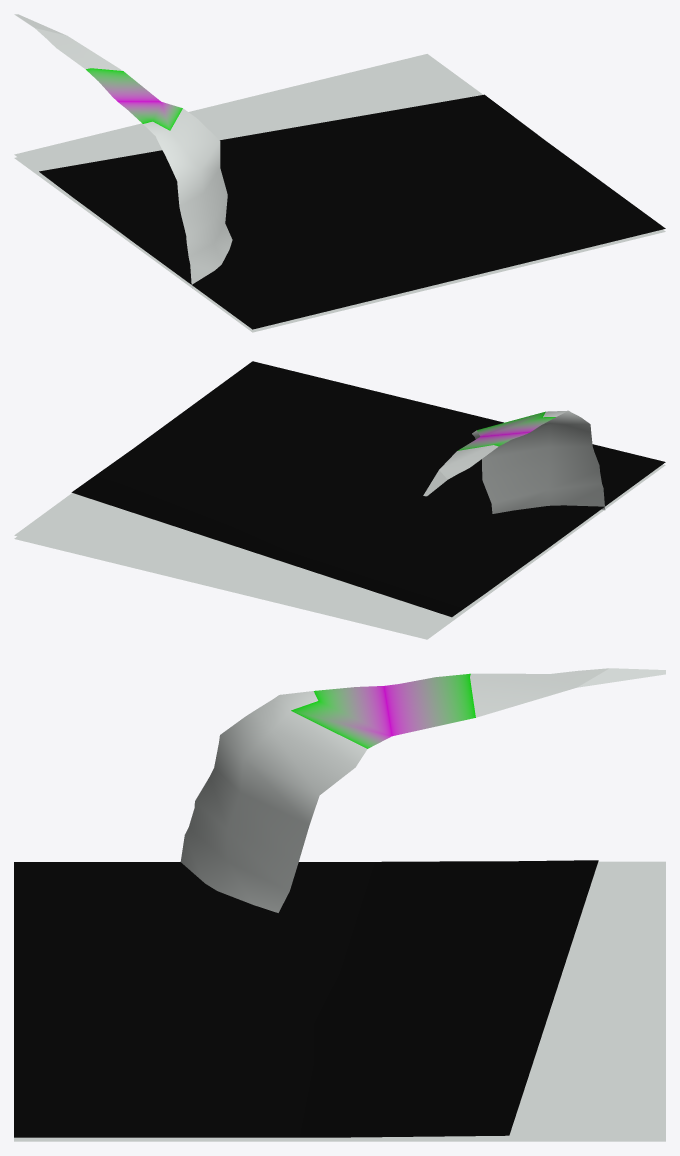
3 views of the same model, one above another, from view 1: azimuth 30°, elevation 25°; view 2: azimuth 150°, elevation 25°; view 3: azimuth 270°, elevation 25° (orthographic). The views are drawn at different scales.
Visible parts, largest first — view 1: G:\FFXIV-MapTools\exports\f1f1\bg\ffxiv\fst_f1\fld\f1f1\bgpl (×7); view 2: G:\FFXIV-MapTools\exports\f1f1\bg\ffxiv\fst_f1\fld\f1f1\bgpl (×8); view 3: G:\FFXIV-MapTools\exports\f1f1\bg\ffxiv\fst_f1\fld\f1f1\bgpl (×7).
Boxes of the visible parts, x1=… form: G:\FFXIV-MapTools\exports\f1f1\bg\ffxiv\fst_f1\fld\f1f1\bgpl (×7): x1=14, y1=14, x2=665, y2=332; G:\FFXIV-MapTools\exports\f1f1\bg\ffxiv\fst_f1\fld\f1f1\bgpl (×8): x1=14, y1=361, x2=665, y2=639; G:\FFXIV-MapTools\exports\f1f1\bg\ffxiv\fst_f1\fld\f1f1\bgpl (×7): x1=14, y1=668, x2=665, y2=1141.
Bounding box in the file's own units: 128 × 45.53 × 128.
